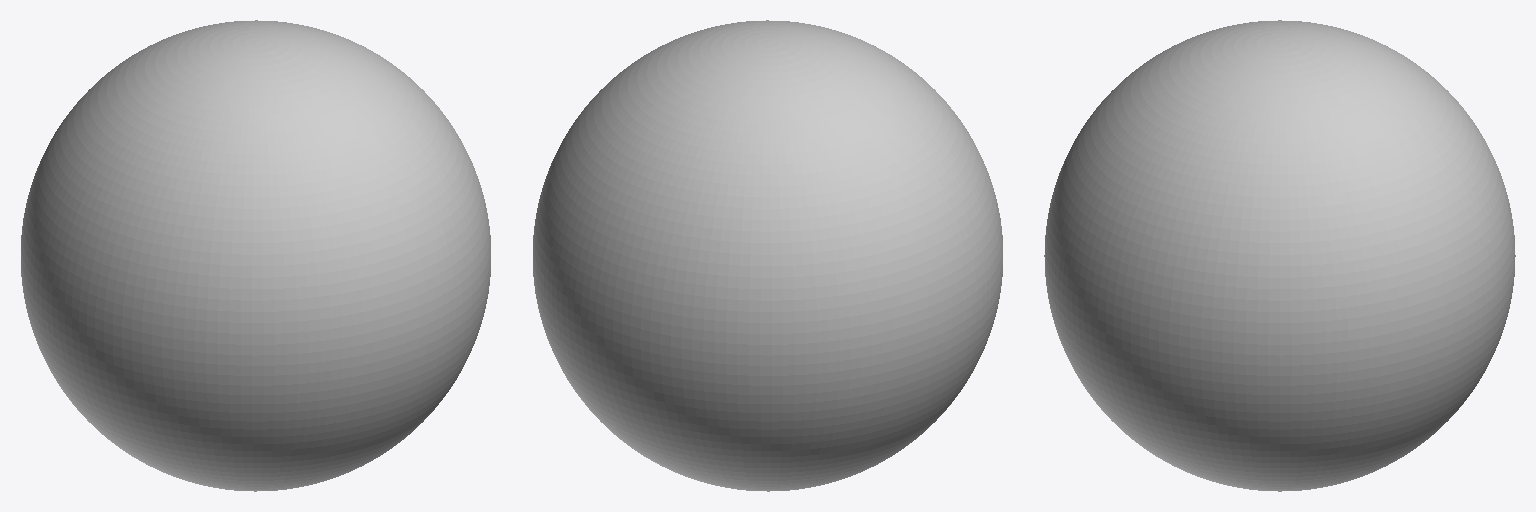
Rendered from Mercurio.obj.
3 renders of one model, left to right at view 1: azimuth 30°, elevation 25°; view 2: azimuth 150°, elevation 25°; view 3: azimuth 270°, elevation 25°, orthographic.
Visible parts, largest first — view 1: Esfera; view 2: Esfera; view 3: Esfera.
Part boxes in pixels (x1,y1,x2,y2): Esfera: (21,20,490,491); Esfera: (533,20,1002,491); Esfera: (1044,20,1515,491).
Size of the model in its own units: 2 by 2 by 2.